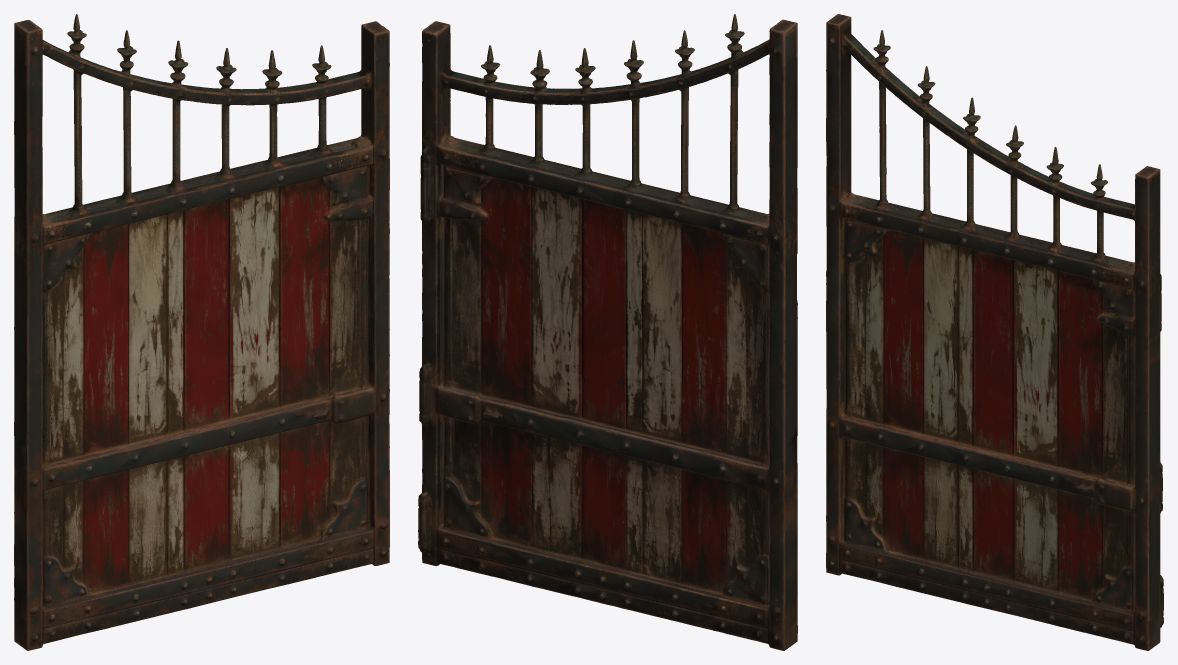
File: Meshy_AI_Weathered_Iron_Gate_0508020556_texture.fbx
3 renders of one model, left to right at view 1: azimuth 30°, elevation 25°; view 2: azimuth 150°, elevation 25°; view 3: azimuth 330°, elevation 25°, orthographic. The views are drawn at different scales.
Parts seen in each view (by area): view 1: Mesh_0; view 2: Mesh_0; view 3: Mesh_0.
Boxes of the visible parts, left/top/right/bottom form: Mesh_0: left=14, top=14, right=389, bottom=650; Mesh_0: left=418, top=14, right=797, bottom=650; Mesh_0: left=826, top=14, right=1163, bottom=650.
Bounding box in the file's own units: 117 × 191 × 12.72.
Materials: 1 (1 with a texture image).
